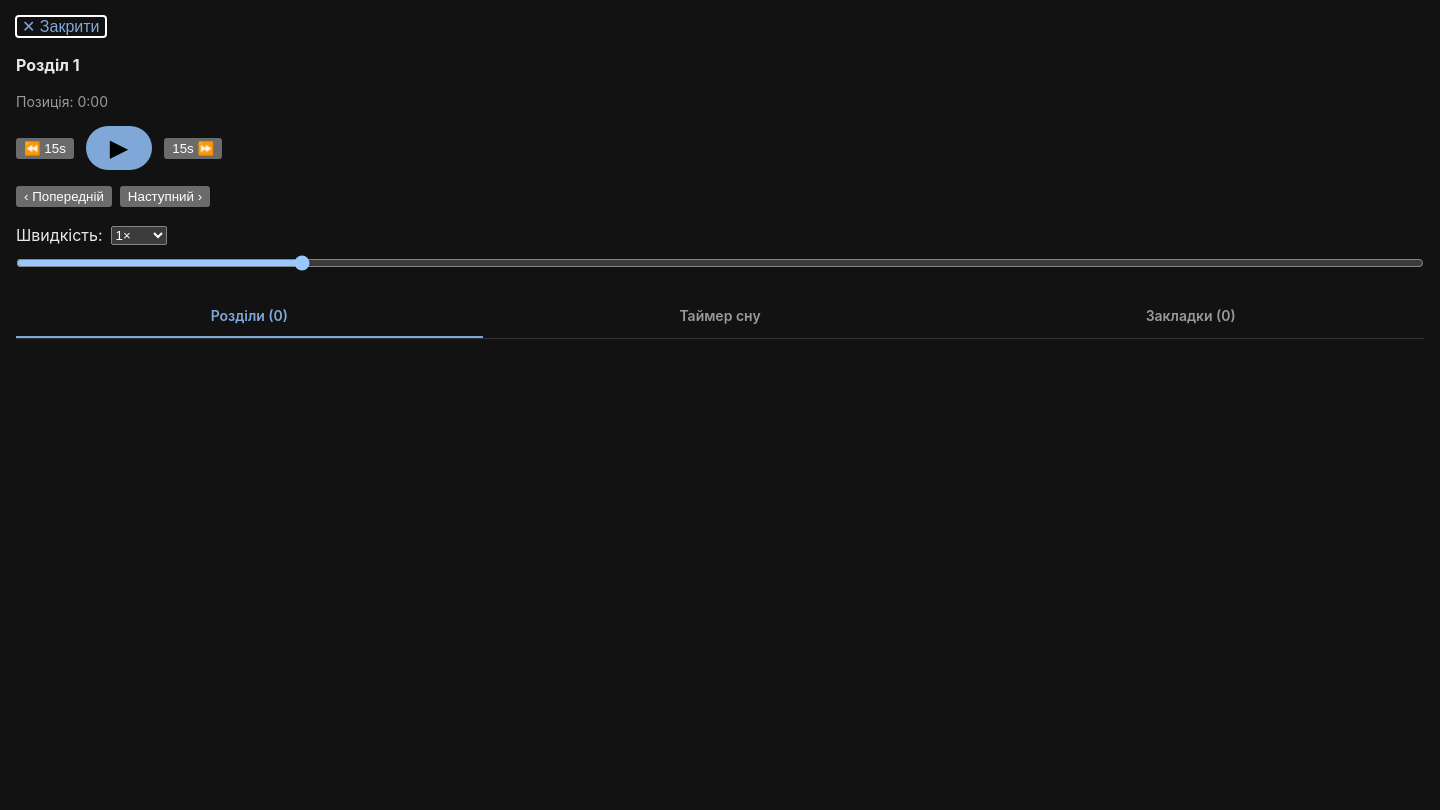
Test: PlayerSheet panes (W5.1) › shows the honest empty bookmarks state without a loaded book
The image size is (1440, 810).
Click the tab "Закладки (0)": click(1191, 316) [957,295,1424,338]
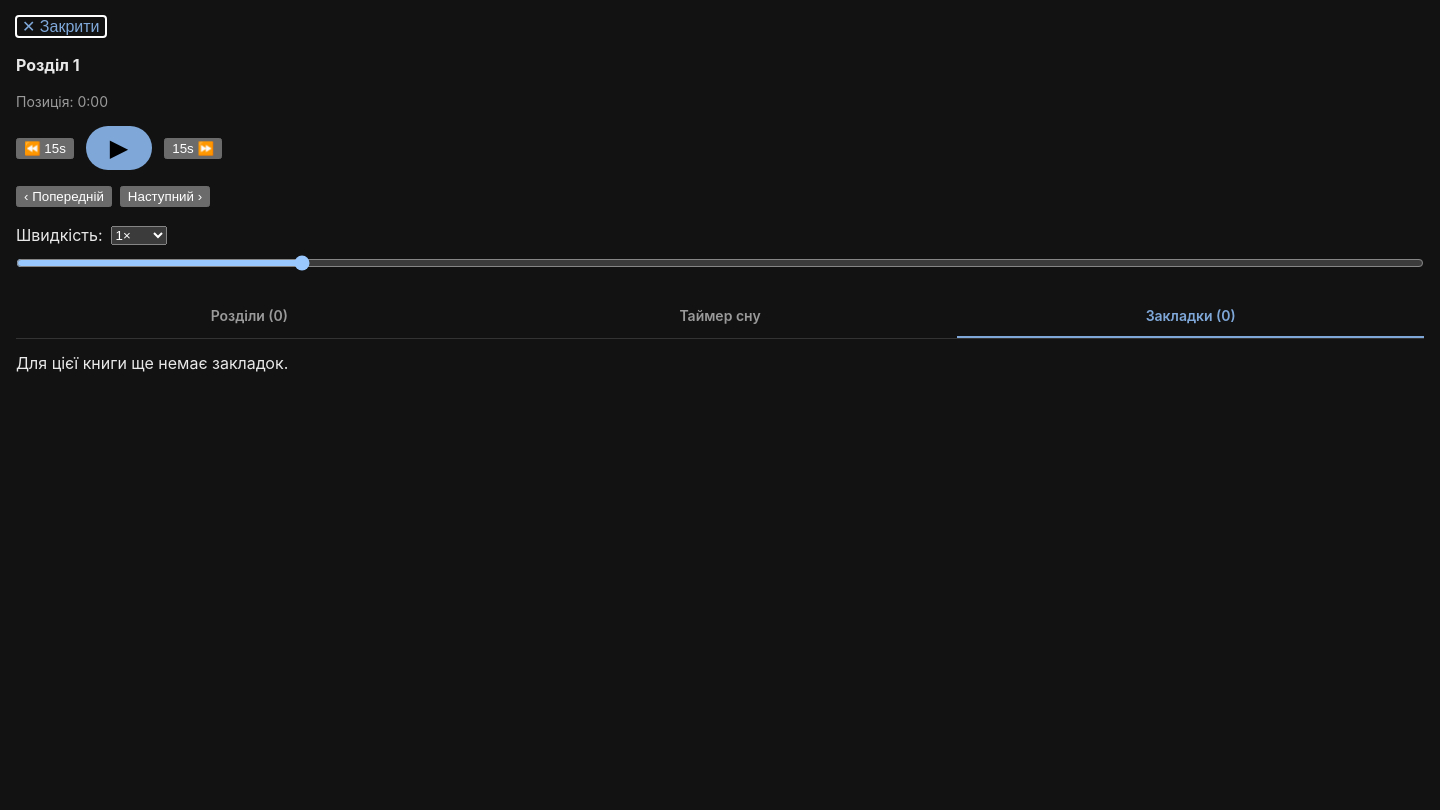
Check: the text "Для цієї книги ще немає закладок." is shown, box [16,353,288,373]
